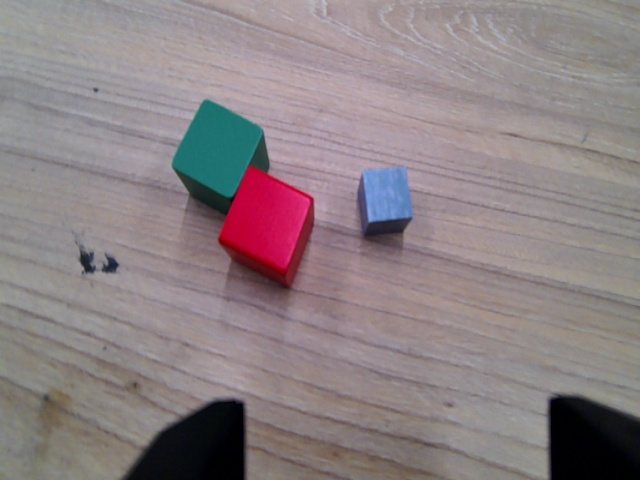stone: (346, 164, 418, 238)
